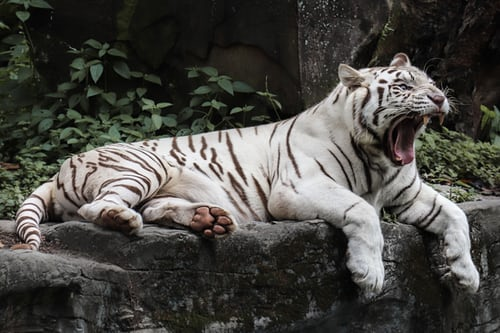tiger: (326, 50, 450, 176)
